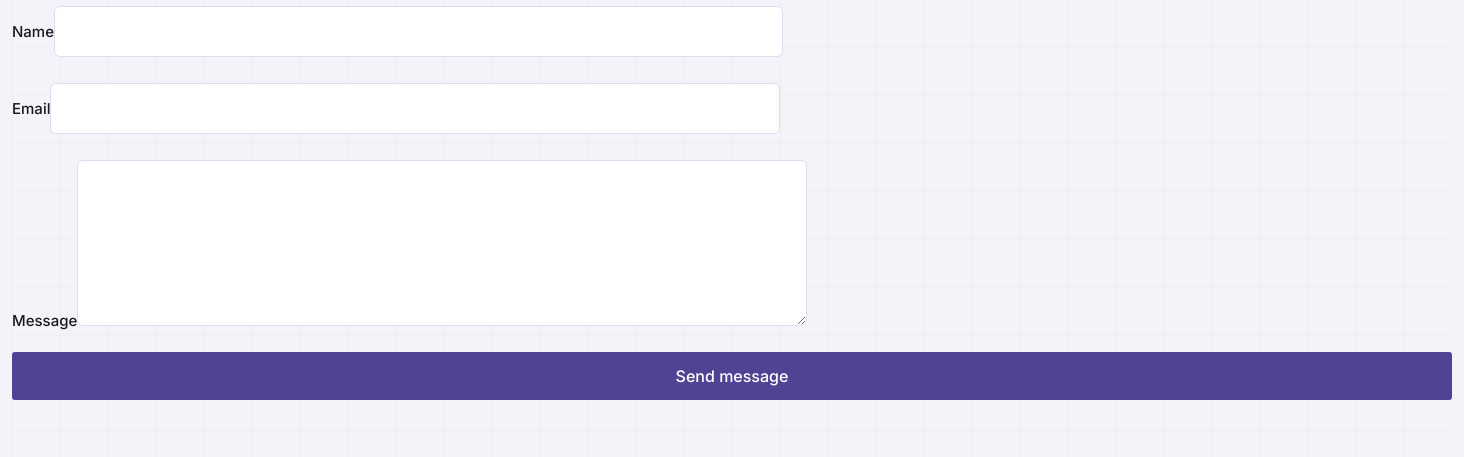
Test: ContactForm (E5-F1-S1 / E5-F1-S2) › shows a generic, retry-friendly error state on failure — never raw fetch/HTTP details
The image size is (1464, 457).
In the field labelled "Name": x=419, y=31 [54,6,783,57], type "Jane Founder"
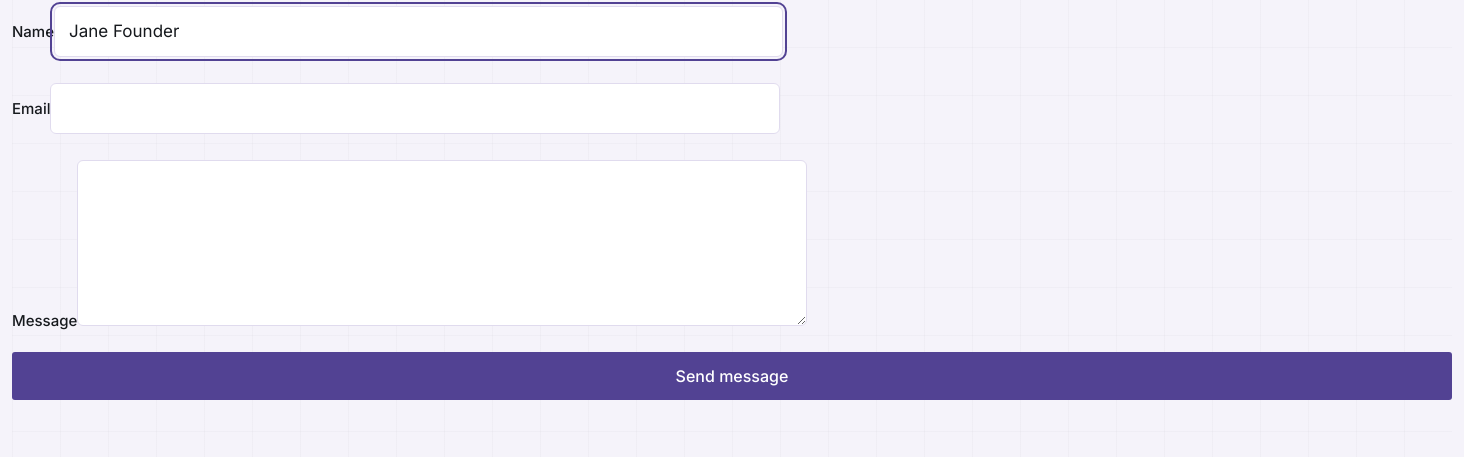
In the field labelled "Email": x=415, y=108 [50,83,780,134], type "jane@startup.com"
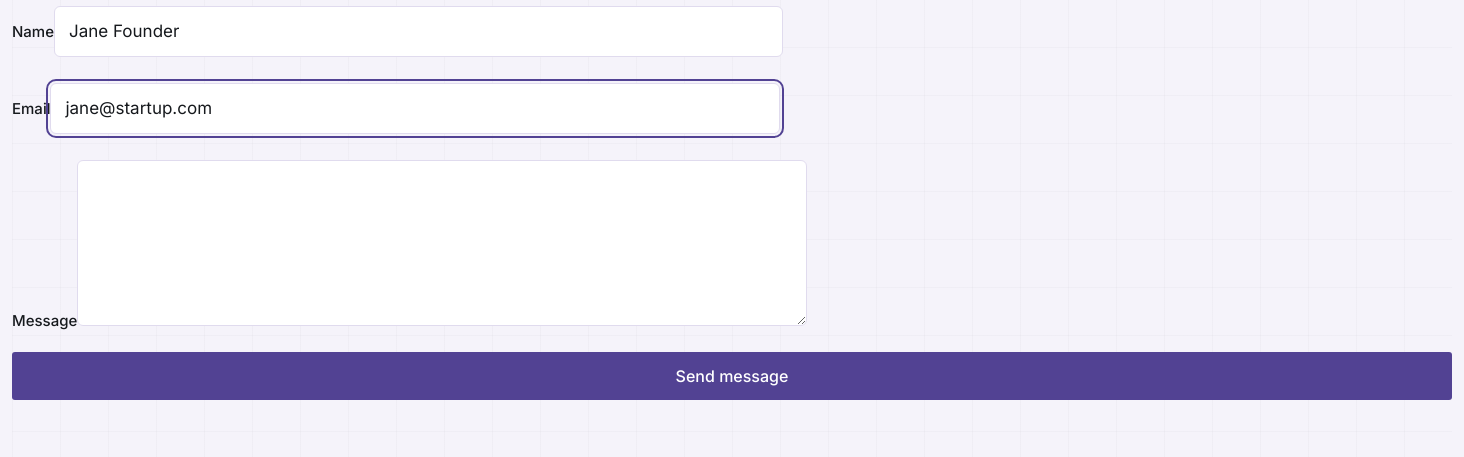
In the text box labelled "Message": x=442, y=243 [77,160,807,326], type "We'd like to talk about an MVP build."
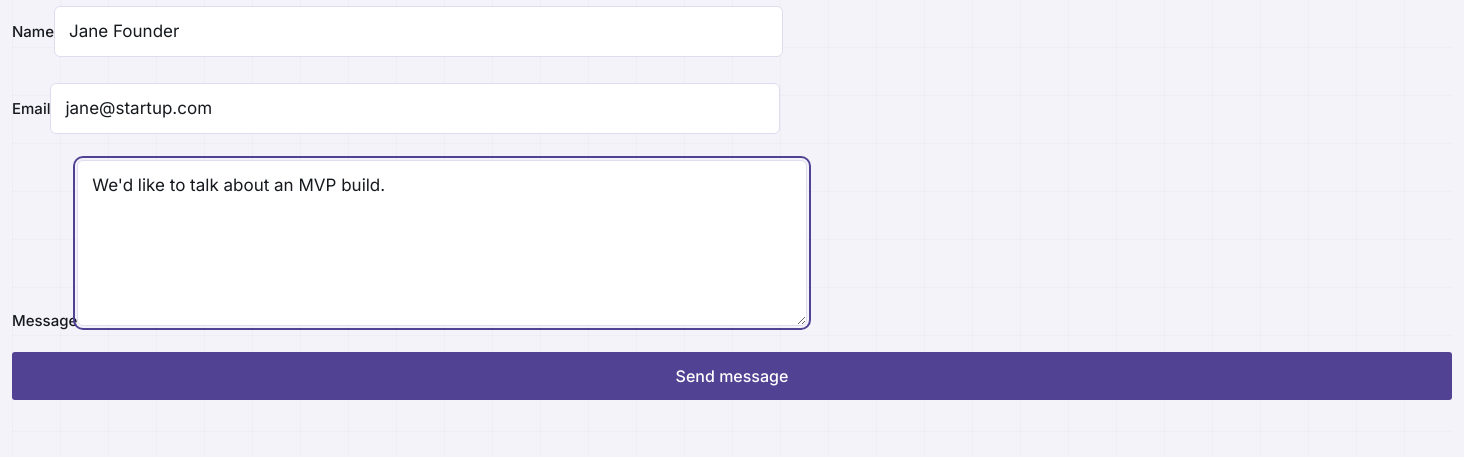
Click the button "Send message": x=732, y=376 [12,352,1452,400]
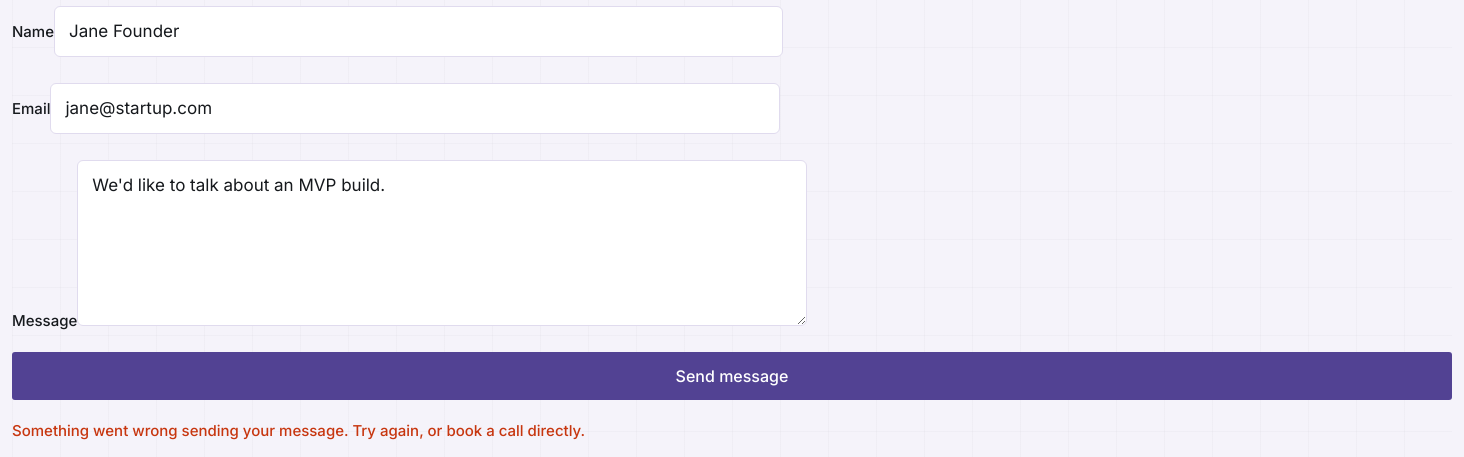
Expected: the text "Something went wrong sending your message" is shown, [12,421,585,440]
